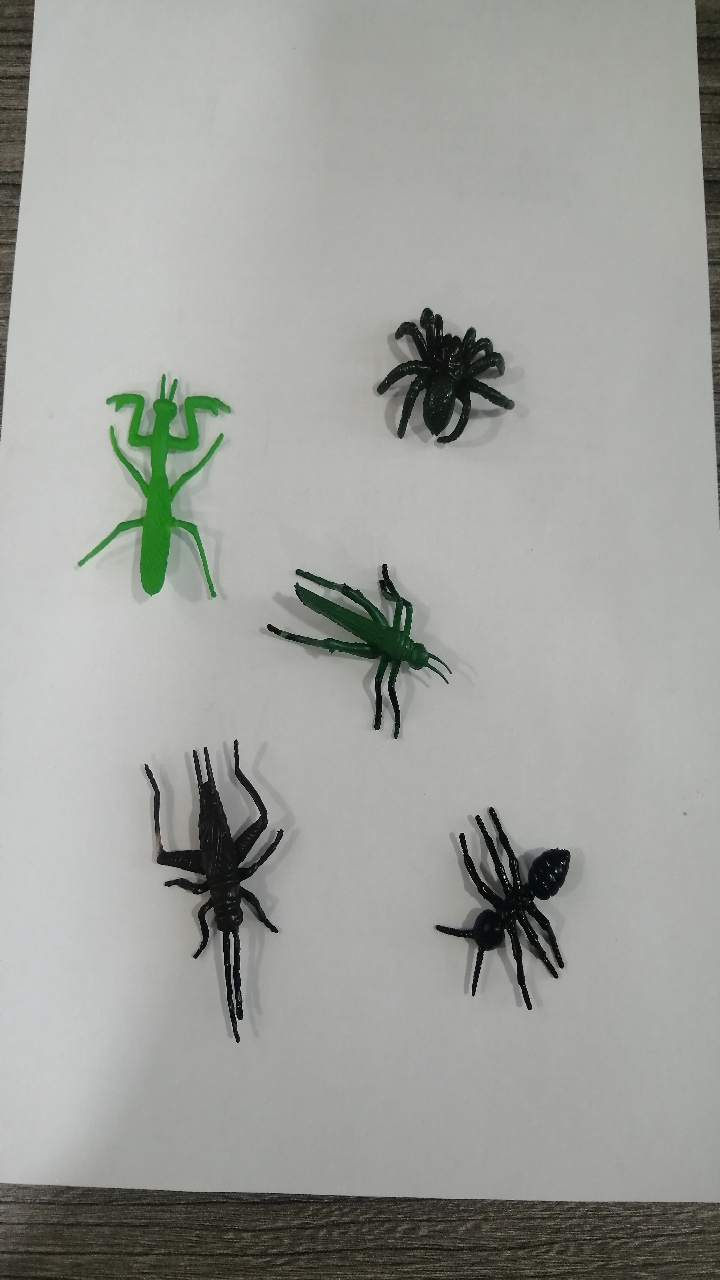intruso: (101, 703, 312, 1066), (58, 340, 254, 655), (246, 520, 480, 766), (412, 775, 598, 1029), (346, 271, 535, 495)
